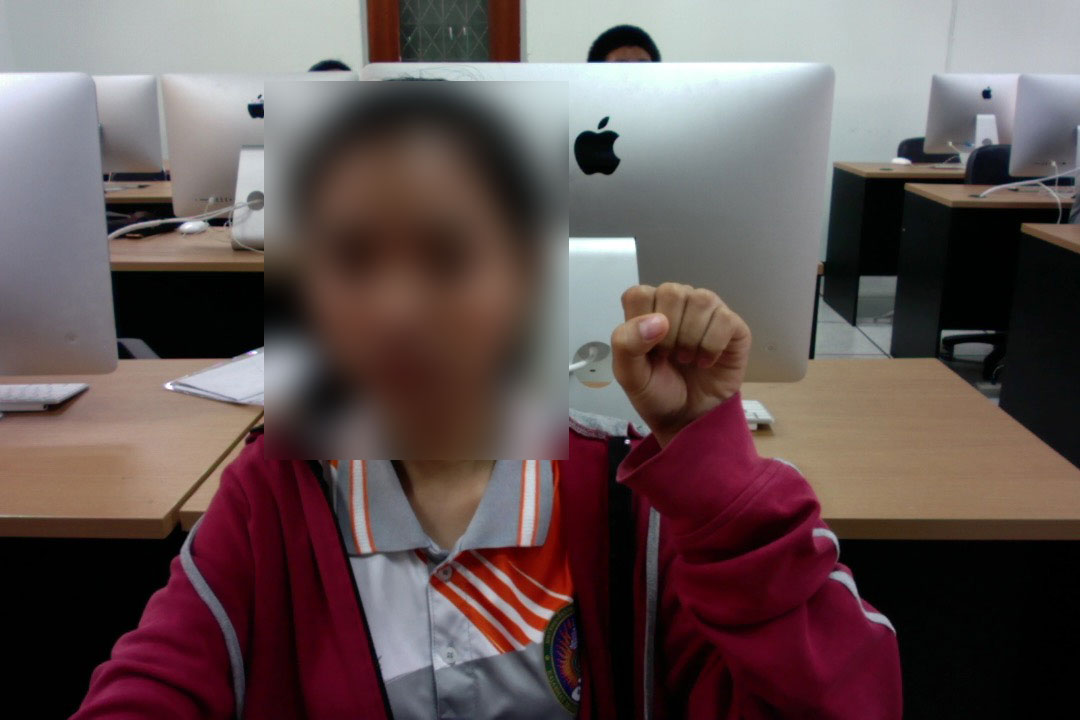sor: (603, 274, 756, 456)
